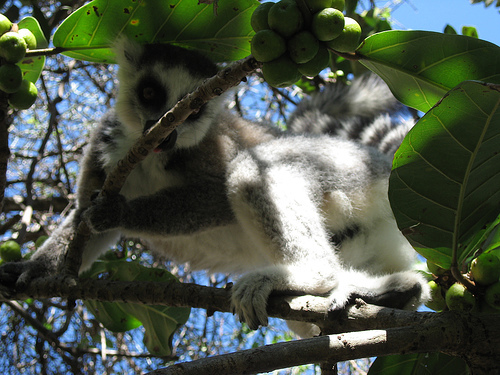cat: (0, 30, 431, 337)
